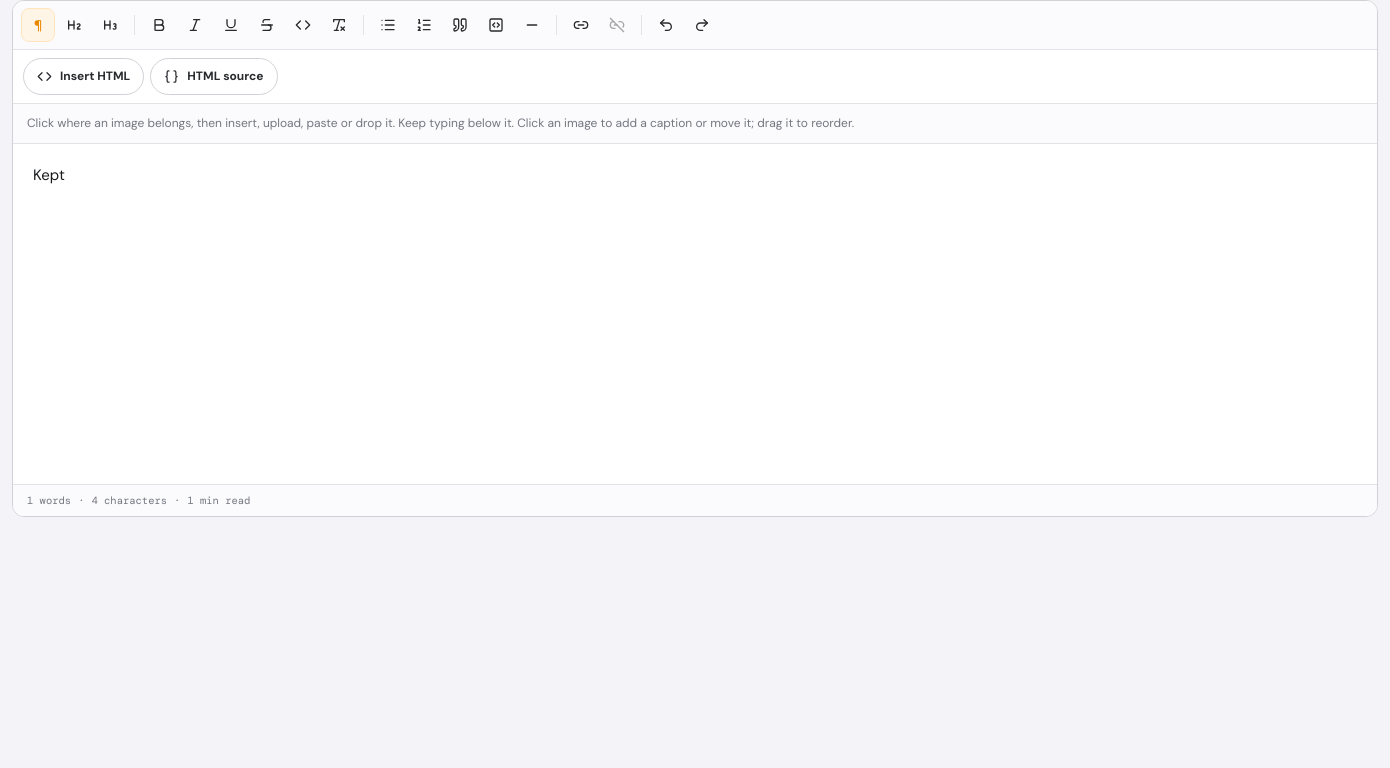
Test: RichTextEditor › edits raw HTML in source mode and strips anything unsafe on the way out
The width and height of the screenshot is (1390, 768).
Click the button with aria-label "Edit HTML" at (214, 76), box x1=150 y1=58 x2=278 y2=95
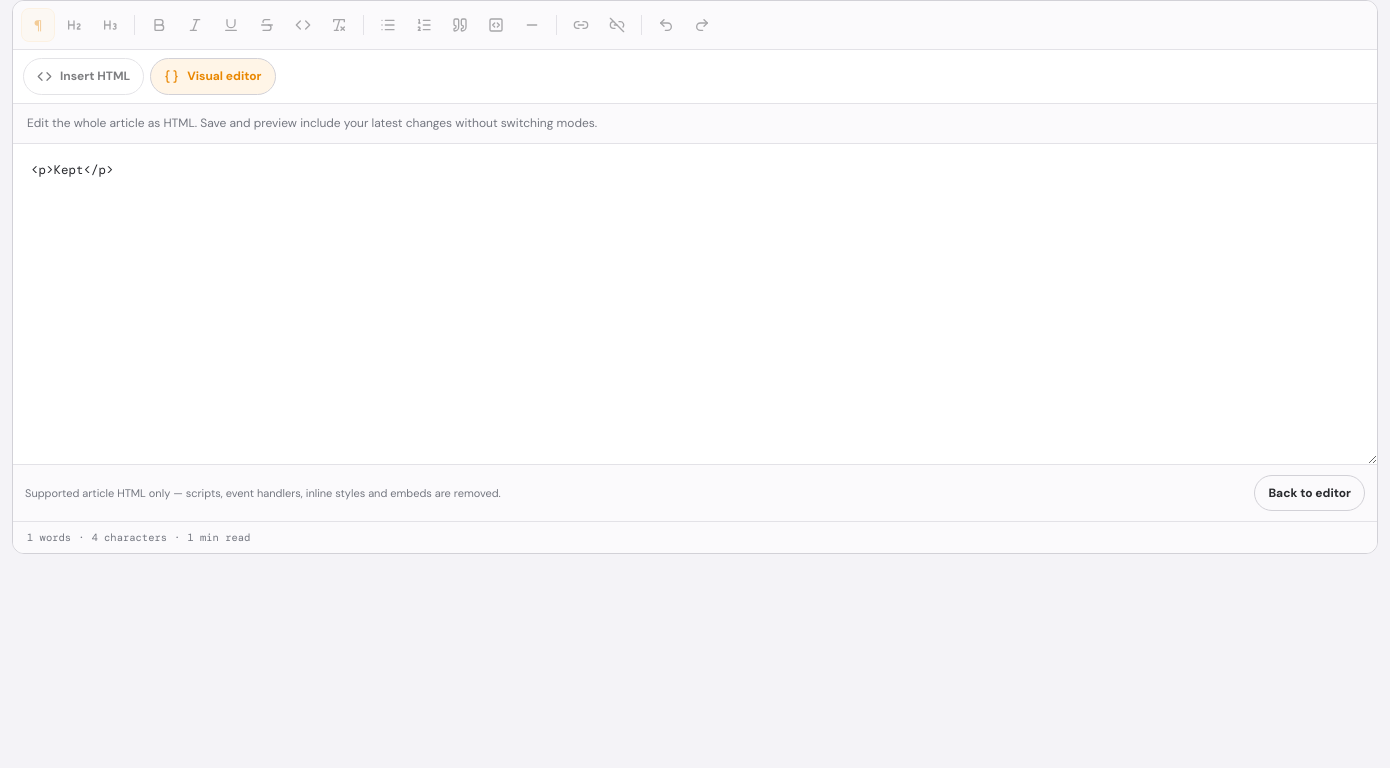
Expected: the text box named "Article HTML" holds "<p>Kept</p>"
Replace the text in the text box named "Article HTML" with "<p onclick=\"steal()\">Kept</p><script>alert(1)</script><img src=\"https://cdn.rown.xyz/b.png\" alt=\"B\">" at (695, 304), box x1=13 y1=144 x2=1377 y2=464
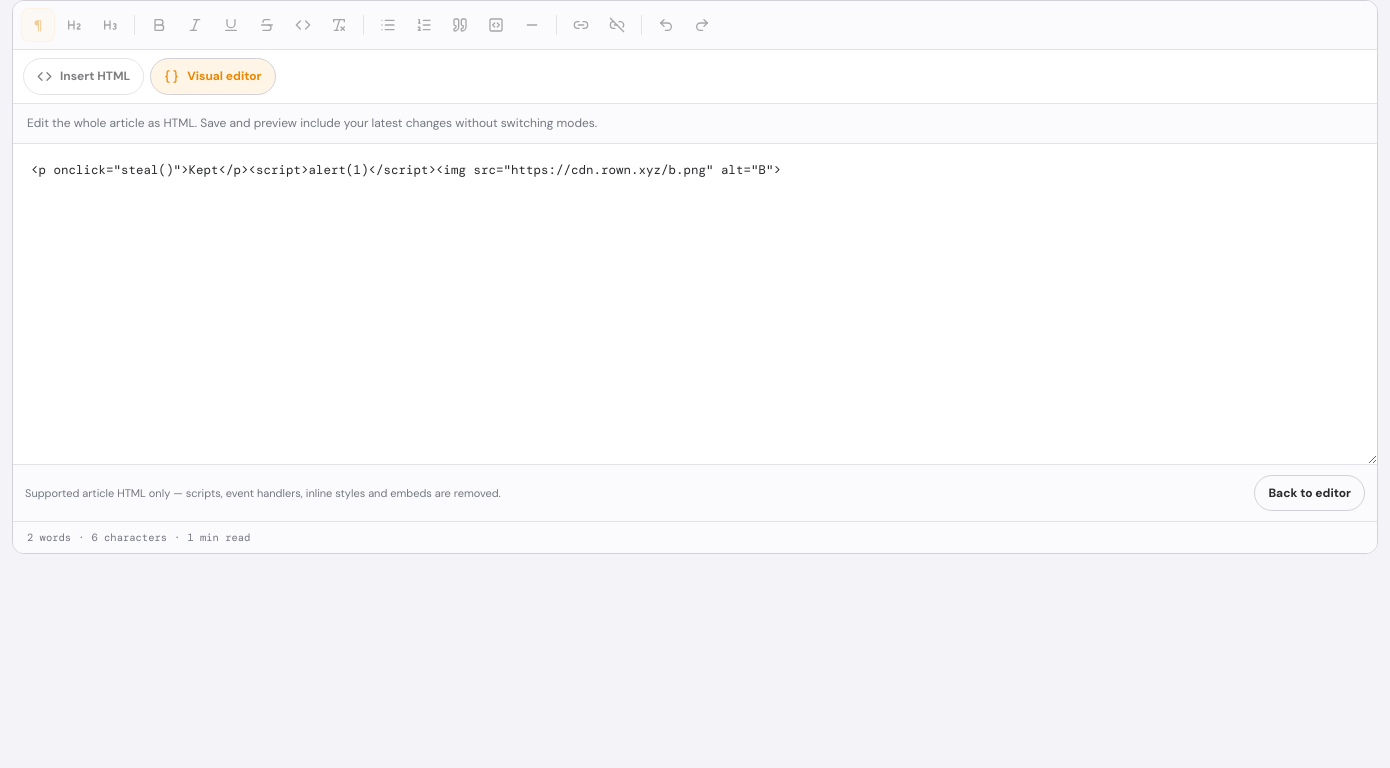
Click the button "Back to editor" at (1310, 493), box x1=1254 y1=475 x2=1365 y2=511
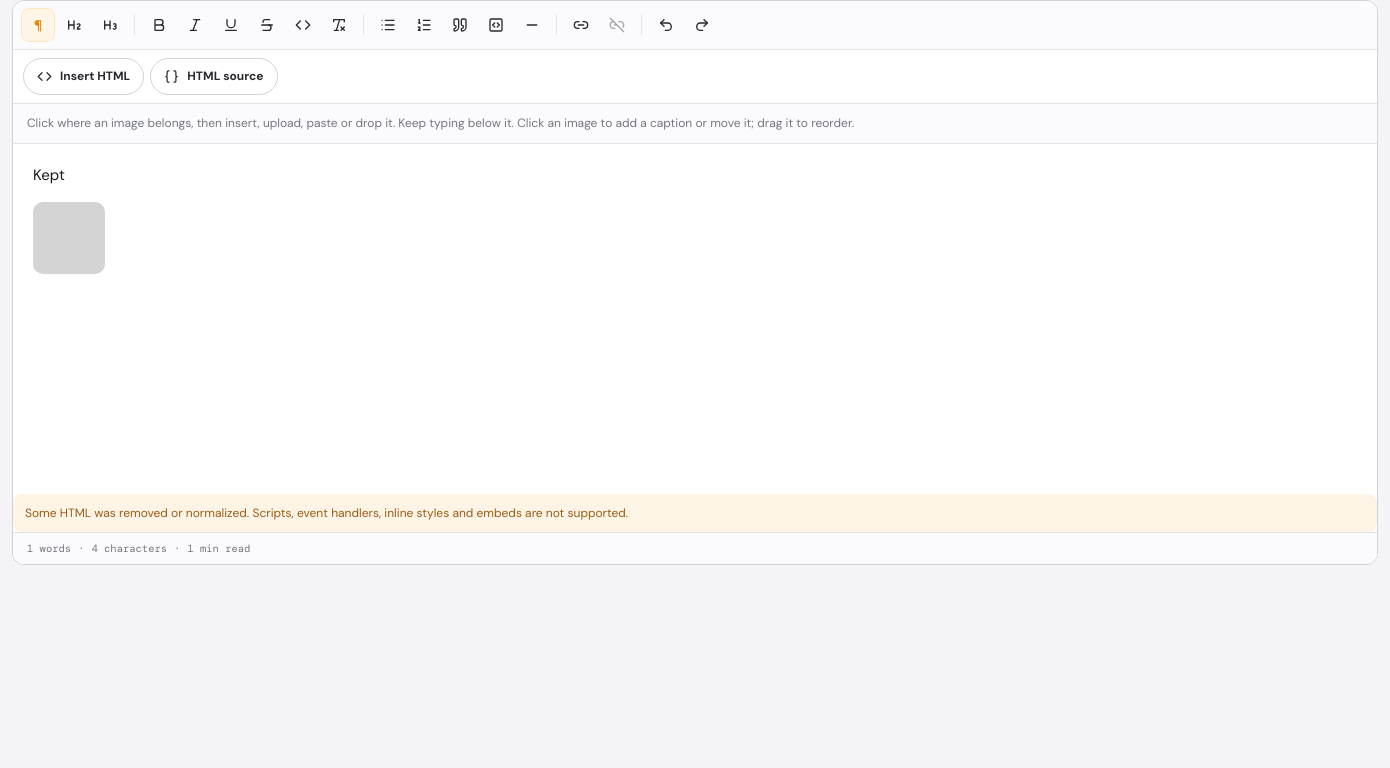
Expected: the message shows "Some HTML was removed", x1=25 y1=505 x2=628 y2=521
